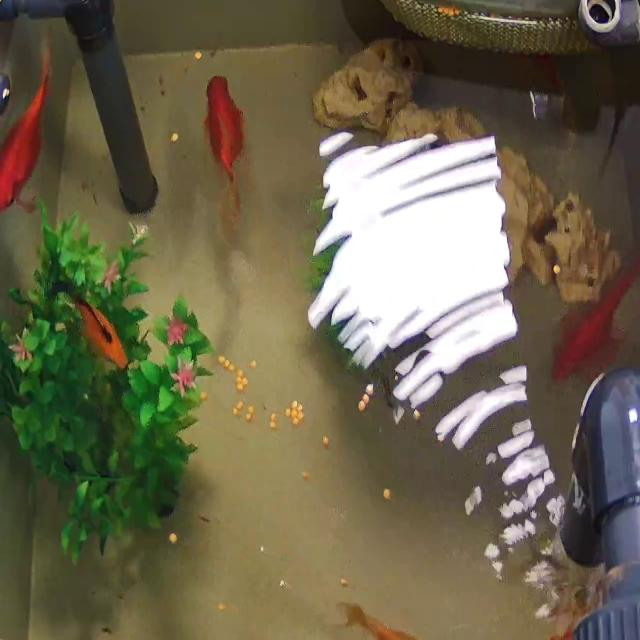fish: (535, 200, 640, 388), (183, 45, 272, 244), (0, 37, 60, 227), (331, 585, 459, 640), (64, 274, 129, 366)
